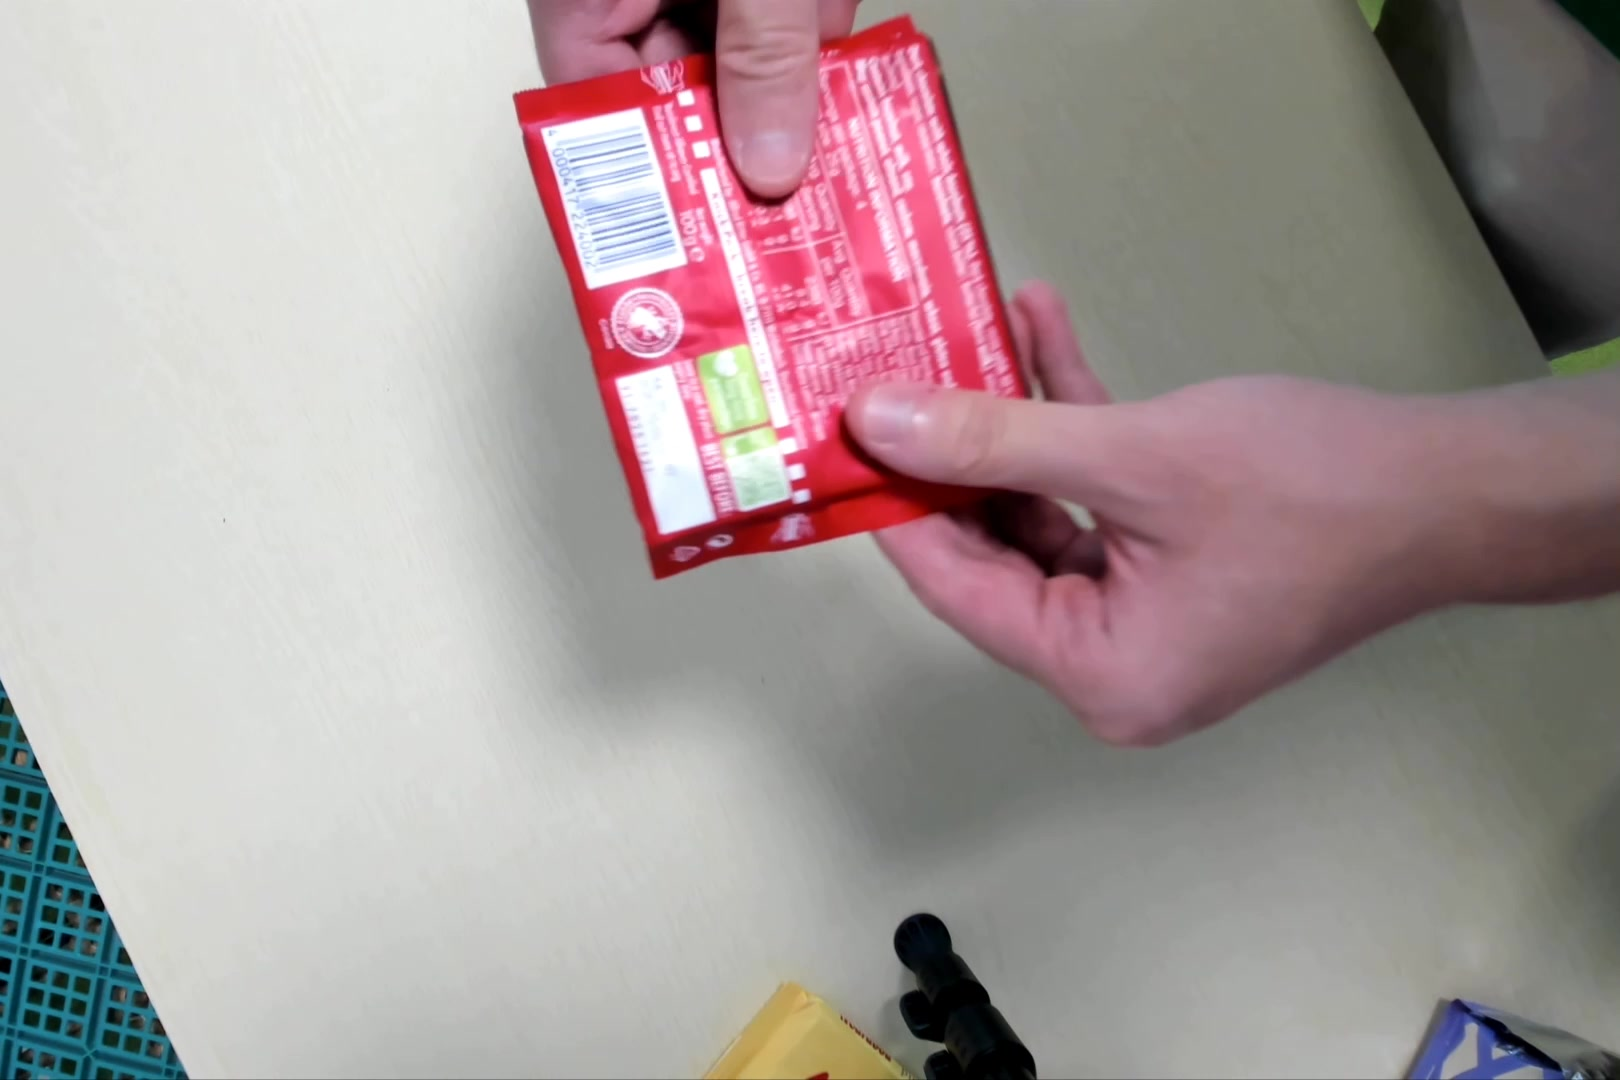SweetsChocolatesOthers_100-199g_NonHalal_NonHealthy: (510, 30, 1047, 579)
